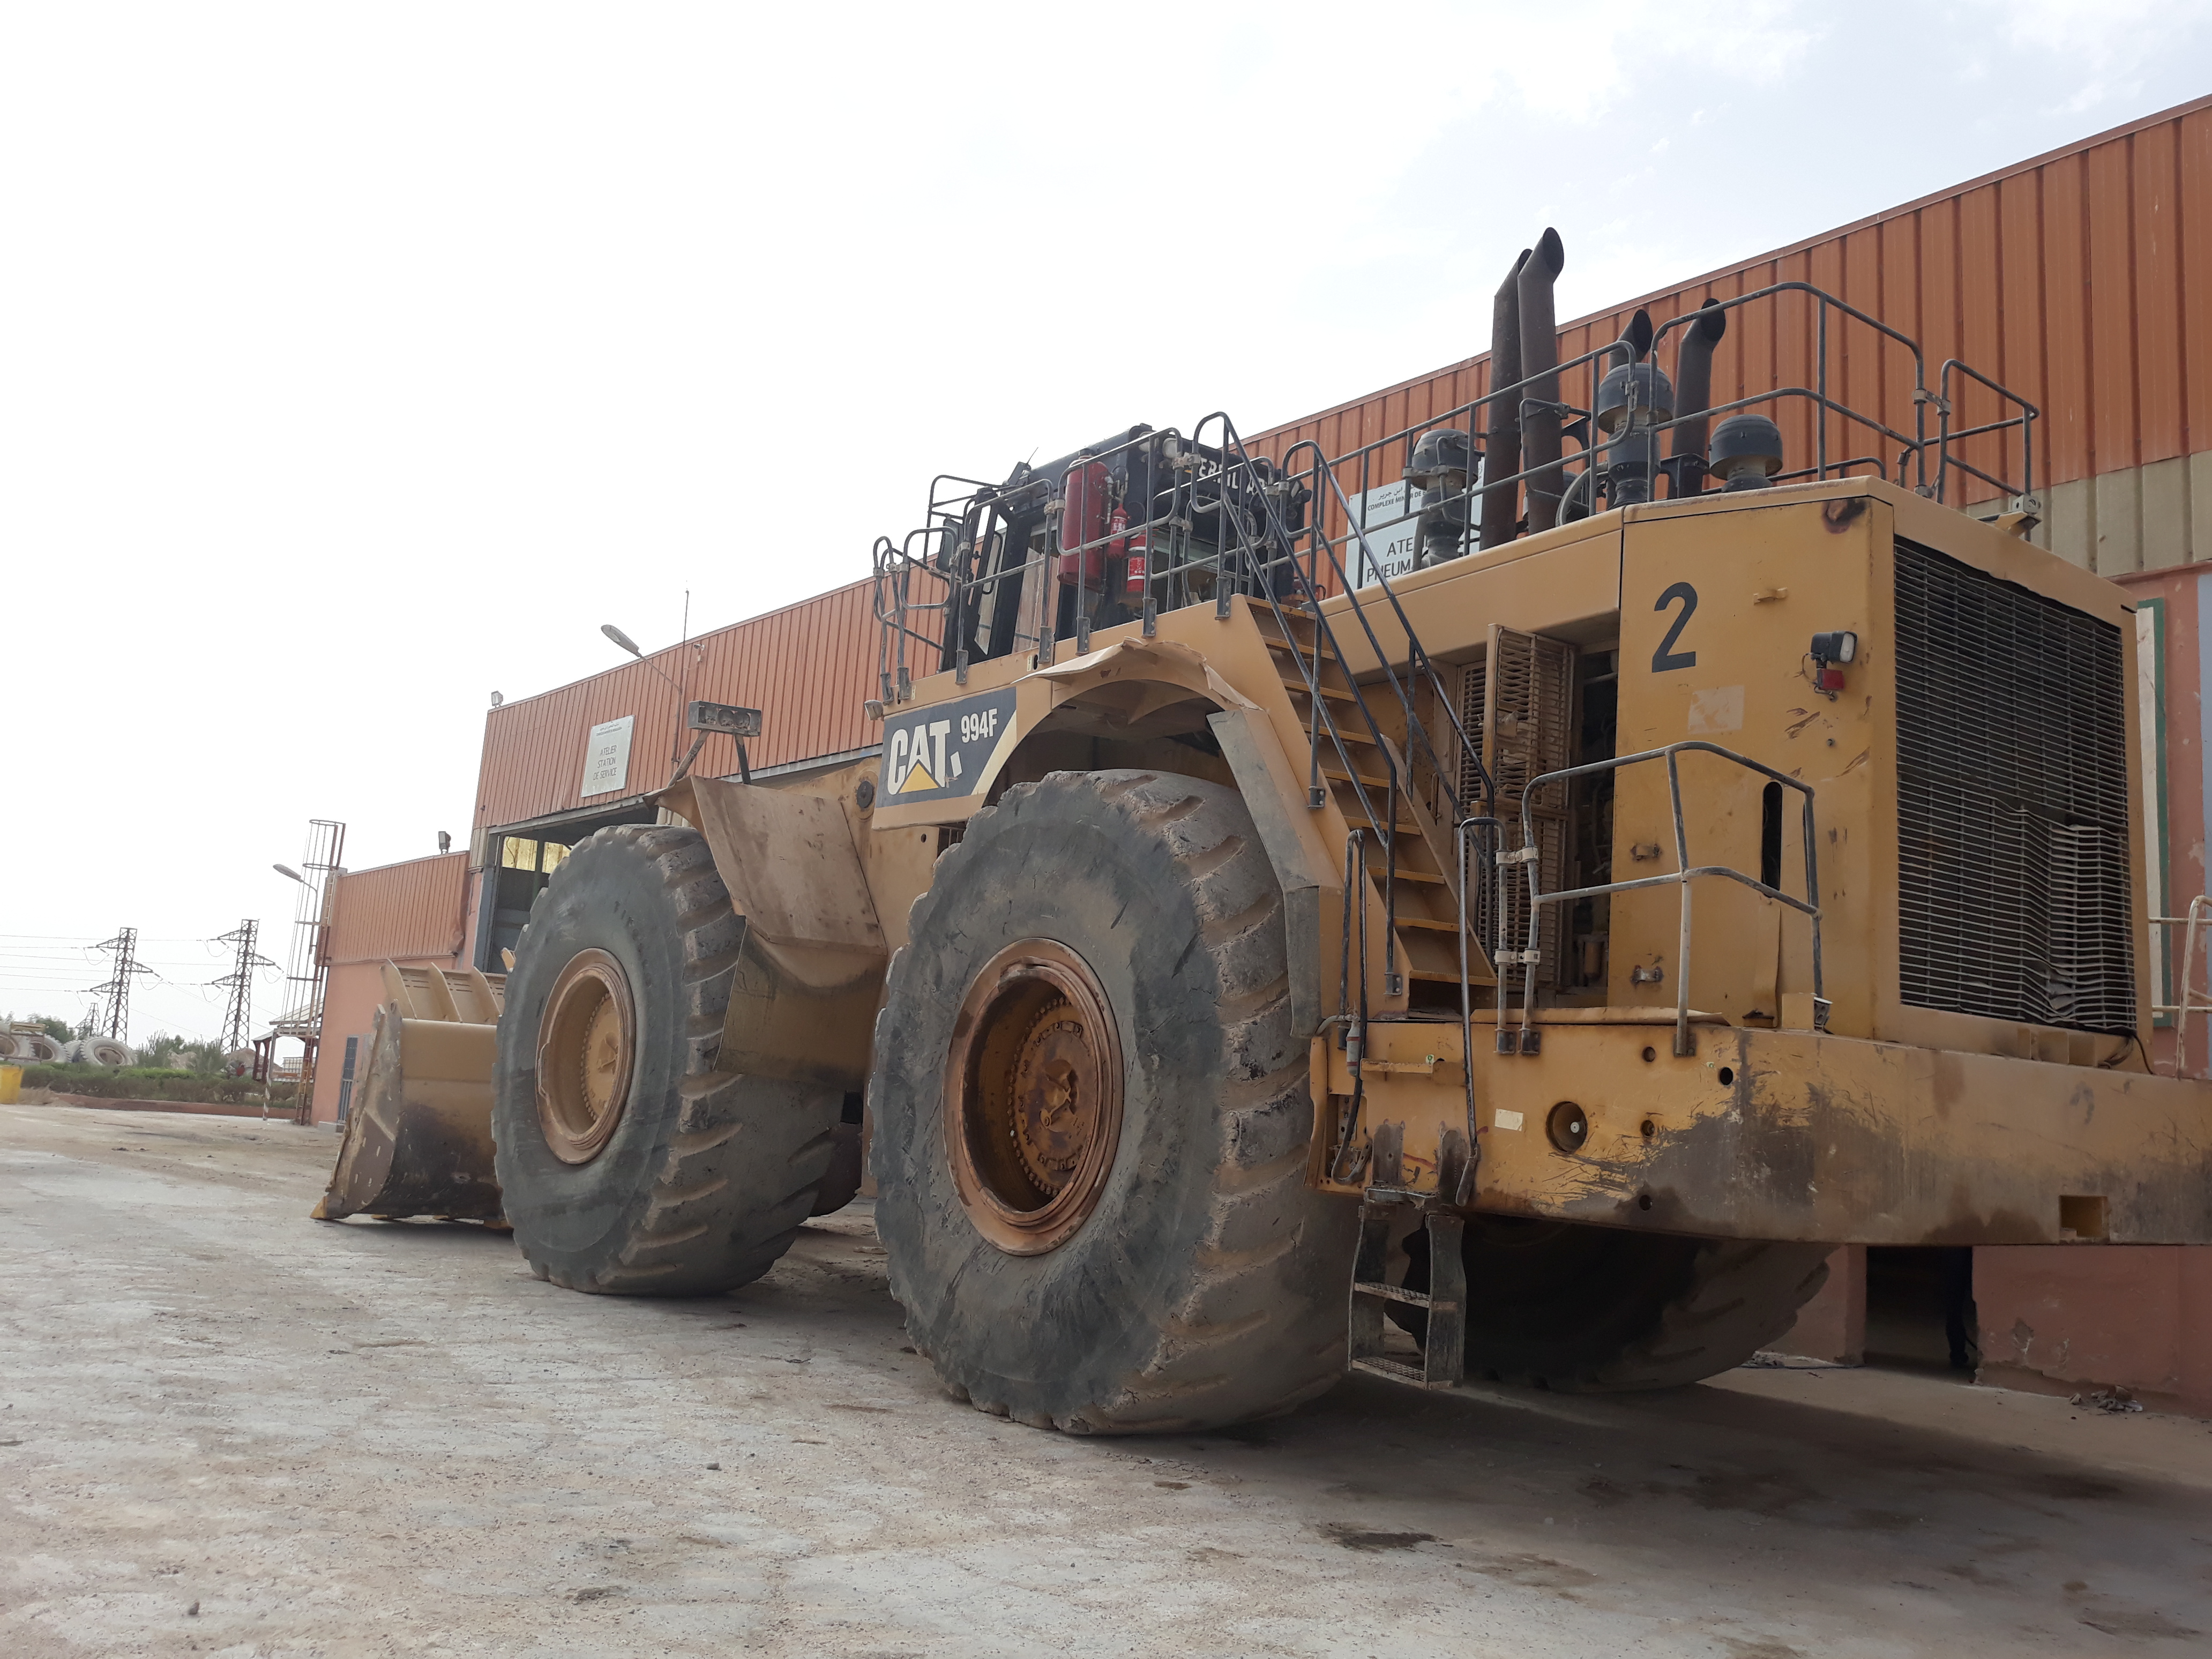chargeuse: (303, 355, 2212, 1459)
